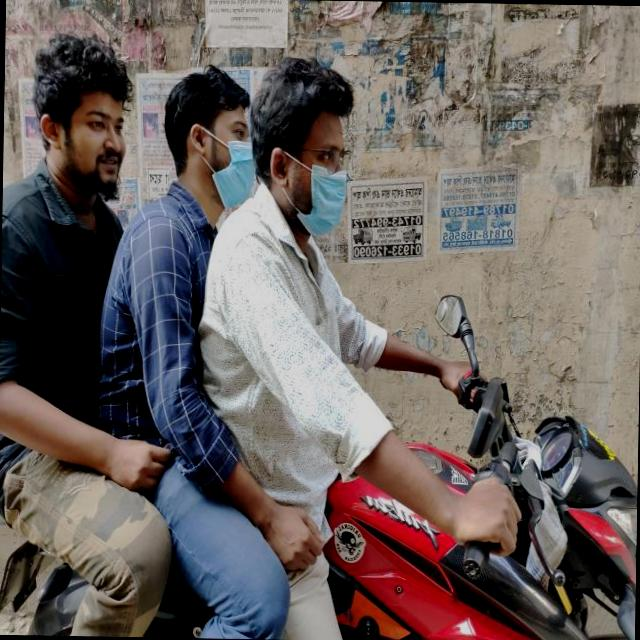motorcycle: (0, 317, 639, 640)
person: (200, 47, 390, 640), (91, 54, 261, 639), (0, 26, 148, 636)
rider_region: (2, 24, 640, 640)
